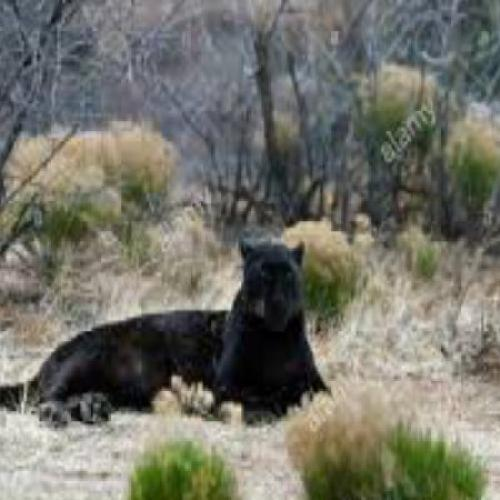panther-endangered: (0, 240, 330, 426)
